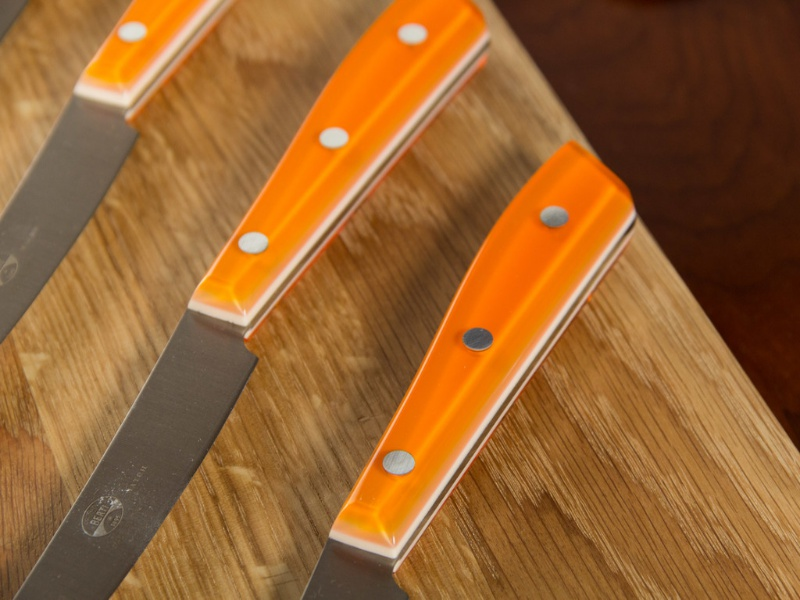knife: (1, 5, 497, 598), (301, 142, 642, 600), (2, 1, 221, 346)
